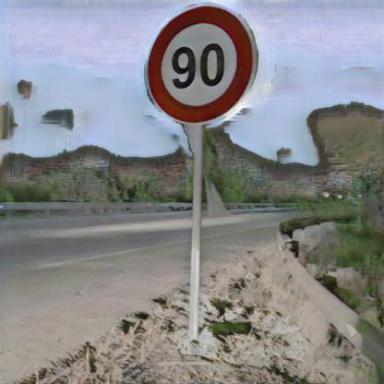Speed_limit_90: (150, 8, 252, 123)
